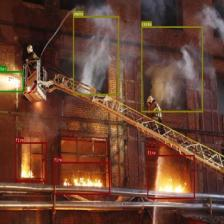fire: (147, 155, 195, 199), (54, 162, 110, 194), (15, 142, 47, 182)
smoke: (141, 26, 203, 112), (72, 16, 118, 95)
